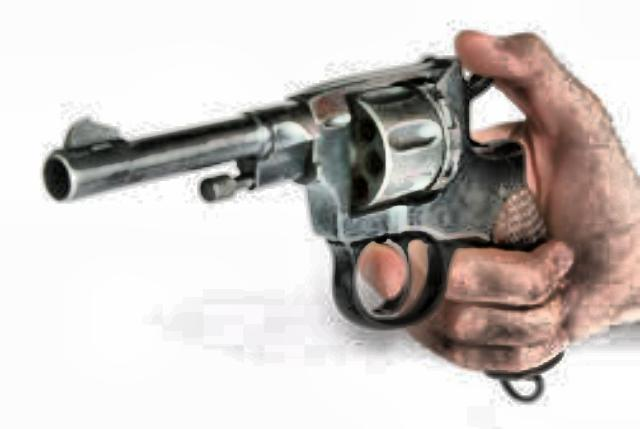pistol: (36, 48, 574, 402)
